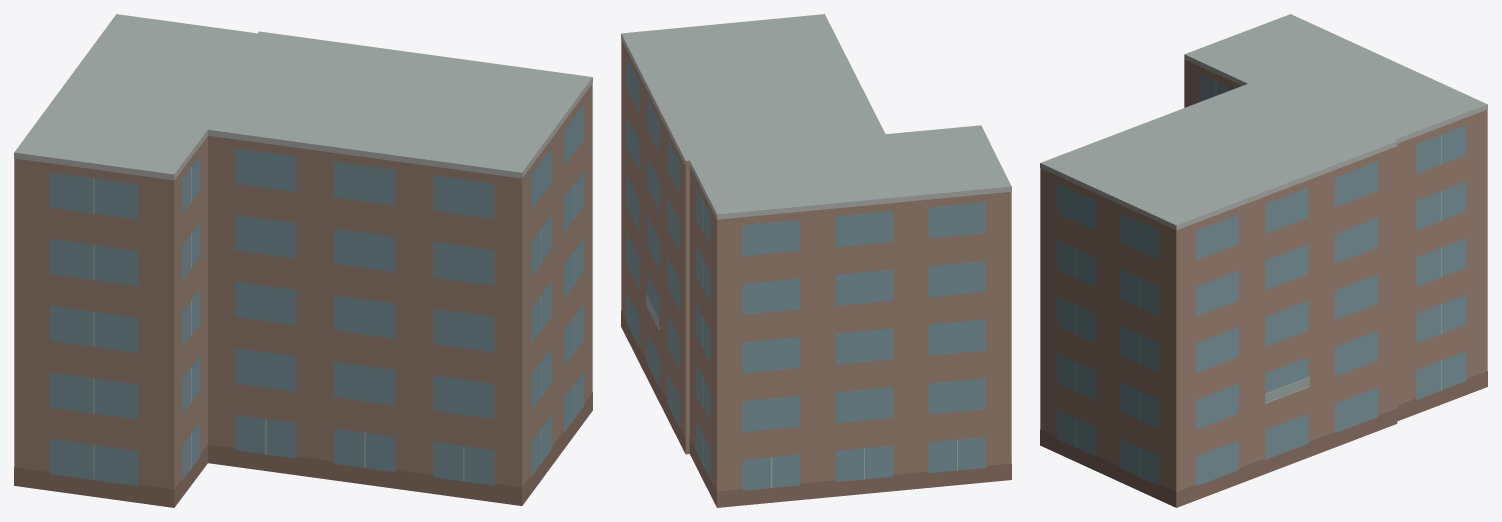
Rendered from survey-upis-32664928.glb.
3 renders of one model, left to right at view 1: azimuth 30°, elevation 25°; view 2: azimuth 150°, elevation 25°; view 3: azimuth 270°, elevation 25°, orthographic. The views are drawn at different scales.
Parts seen in each view (by area): view 1: survey-upis-32664928.tmp; view 2: survey-upis-32664928.tmp; view 3: survey-upis-32664928.tmp.
Boxes of the visible parts, left/top/right/bottom form: survey-upis-32664928.tmp: left=14, top=14, right=592, bottom=507; survey-upis-32664928.tmp: left=621, top=14, right=1011, bottom=507; survey-upis-32664928.tmp: left=1040, top=14, right=1487, bottom=507.
Bounding box in the file's own units: 22.32 × 13.9 × 19.97.
